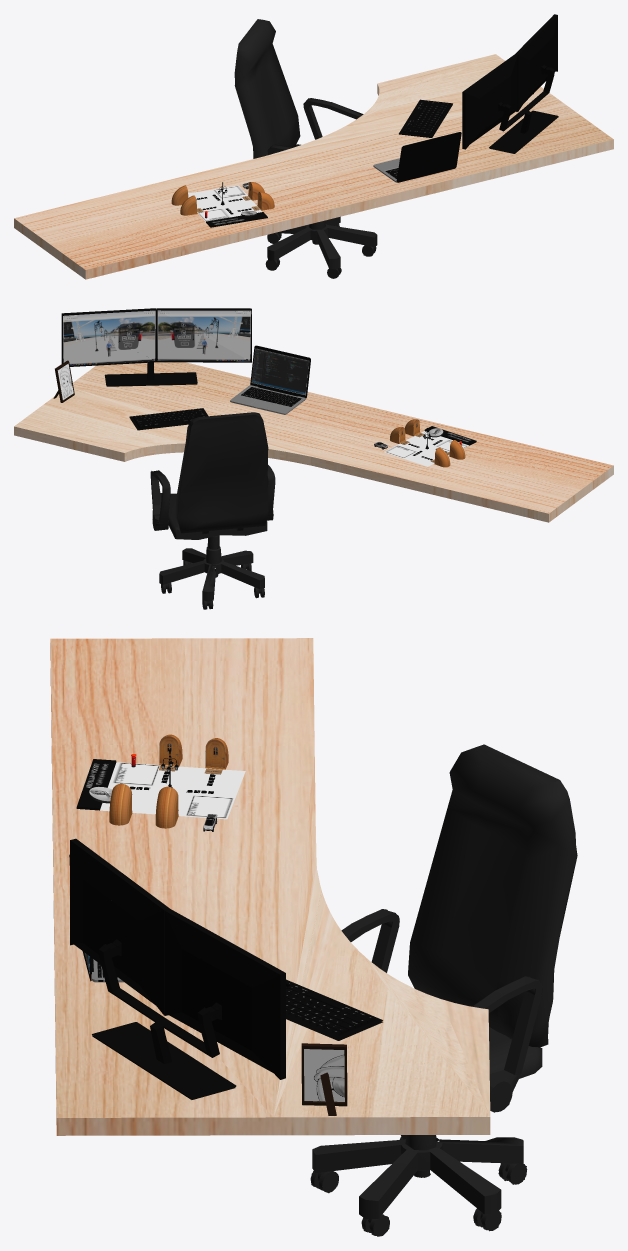
Rendered from Desk.glb.
The picture shows the model from 3 angles, top to bottom: view 1: azimuth 30°, elevation 25°; view 2: azimuth 150°, elevation 25°; view 3: azimuth 270°, elevation 25°; orthographic projection. The views are drawn at different scales.
Parts seen in each view (by area): view 1: Desk, Chair, Monitor, Laptop, CVpaper, Keyboard, CVHeader; view 2: Desk, Chair, Monitor, Laptop, CVpaper, Keyboard, FramePic; view 3: Desk, Chair, Monitor, CVpaper, Keyboard, FramePic, CVHeader, Door1, Door2.
Boxes of the visible parts, x1,y1,x2,y2 form: Desk: [14, 54, 613, 279]; Chair: [234, 19, 377, 278]; Monitor: [462, 14, 558, 153]; Laptop: [373, 132, 461, 182]; CVpaper: [188, 185, 261, 221]; Keyboard: [399, 99, 452, 137]; CVHeader: [206, 212, 267, 227]; Desk: [14, 362, 613, 522]; Chair: [150, 412, 275, 609]; Monitor: [61, 308, 251, 386]; Laptop: [230, 345, 310, 414]; CVpaper: [384, 431, 468, 466]; Keyboard: [129, 408, 208, 430]; FramePic: [53, 360, 74, 402]; Desk: [50, 638, 490, 1135]; Chair: [310, 744, 577, 1236]; Monitor: [70, 838, 285, 1099]; CVpaper: [79, 762, 245, 819]; Keyboard: [286, 979, 382, 1040]; FramePic: [301, 1043, 347, 1115]; CVHeader: [76, 759, 116, 810]; Door1: [155, 786, 178, 828]; Door2: [109, 783, 132, 825].
Size of the model in its own units: 11.49 by 4.5 by 5.29.
26 materials, 19 textured.
